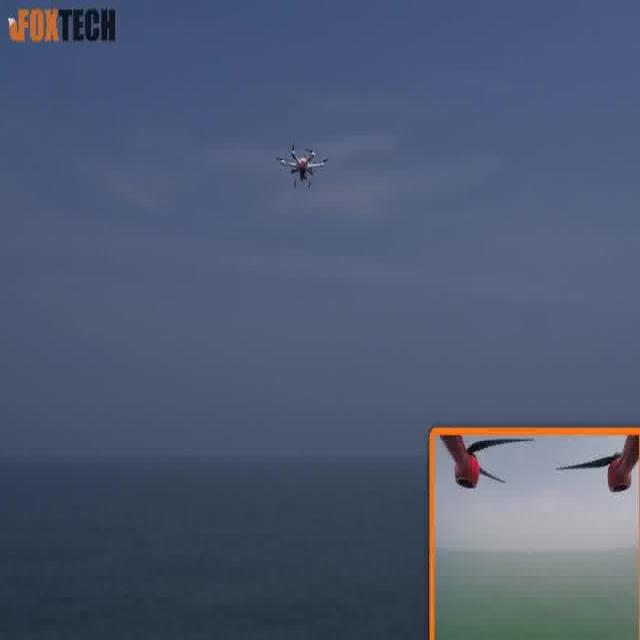drone: (271, 132, 333, 196)
